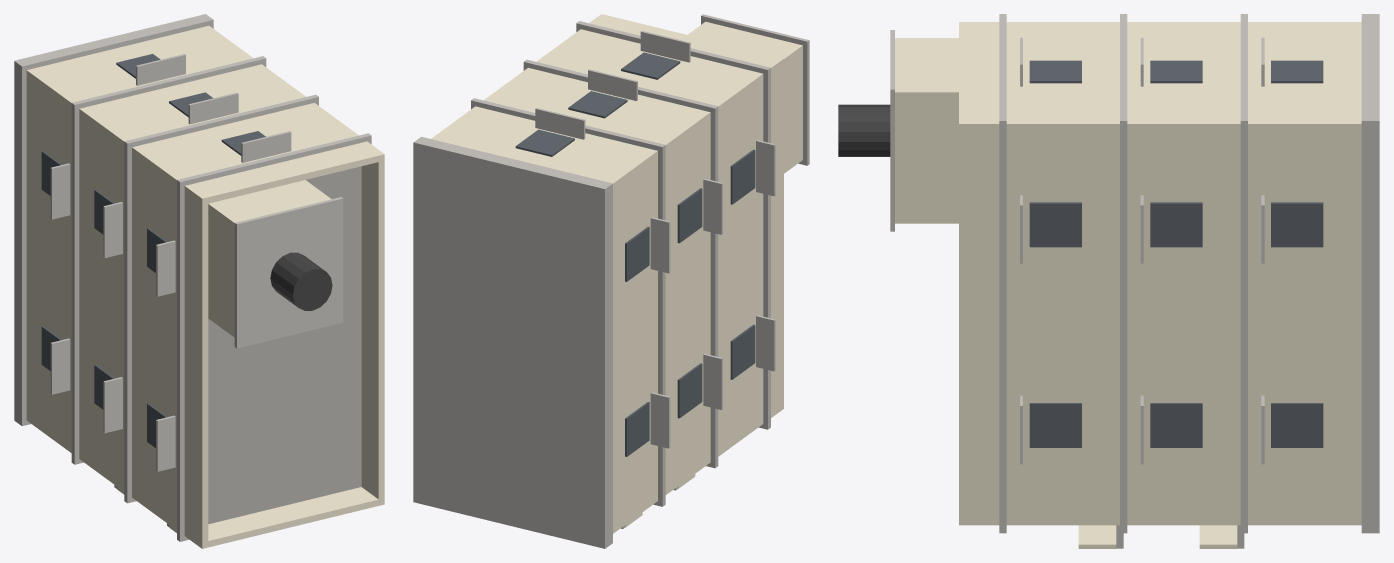
File: rowhouse_3f_cream.glb
3 renders of one model, left to right at view 1: azimuth 30°, elevation 25°; view 2: azimuth 150°, elevation 25°; view 3: azimuth 270°, elevation 25°, orthographic. The views are drawn at different scales.
Parts seen in each view (by area): view 1: cream, concrete, roof, glass, tank; view 2: concrete, cream, glass; view 3: cream, concrete, glass, tank.
Boxes of the visible parts, box(x1,y1,x2,y2) form: cream: box(26, 26, 384, 548); concrete: box(14, 14, 371, 541); roof: box(208, 166, 361, 524); glass: box(41, 54, 265, 447); tank: box(270, 252, 332, 310); concrete: box(413, 14, 809, 548); cream: box(431, 14, 802, 533); glass: box(515, 52, 755, 456); cream: box(895, 22, 1361, 548); concrete: box(890, 14, 1379, 548); glass: box(1029, 60, 1323, 447); tank: box(838, 104, 890, 156).
Bounding box in the file's own units: 7.2 × 12.81 × 13.45.
